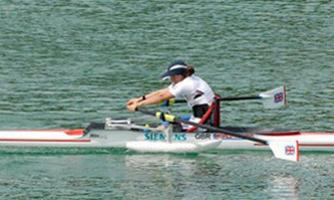person: (128, 61, 217, 133)
